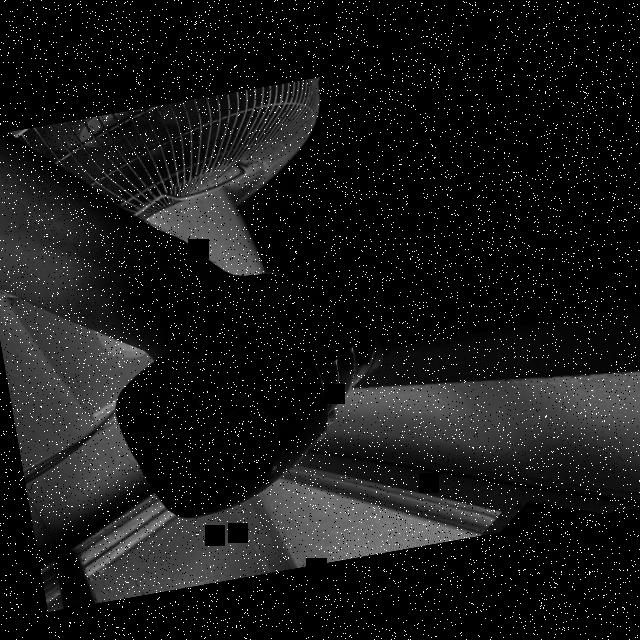chemical_plastic_bottle: (98, 281, 422, 528)
